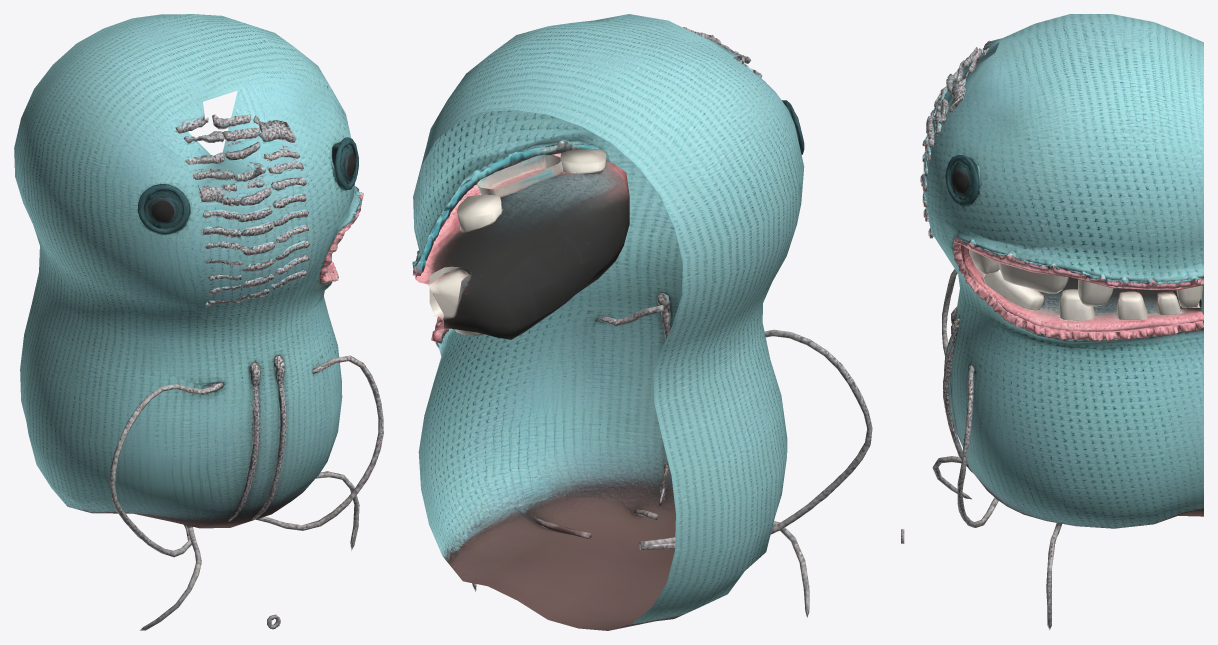
3 renders of one model, left to right at view 1: azimuth 30°, elevation 25°; view 2: azimuth 150°, elevation 25°; view 3: azimuth 270°, elevation 25°, orthographic. The views are drawn at different scales.
Visible parts, largest first — view 1: tripo_node_ca7a1819-09c9-4cde-95db-1880031a4634; view 2: tripo_node_ca7a1819-09c9-4cde-95db-1880031a4634; view 3: tripo_node_ca7a1819-09c9-4cde-95db-1880031a4634.
Part boxes in pixels (left/top/right/bottom): tripo_node_ca7a1819-09c9-4cde-95db-1880031a4634: left=14, top=14, right=383, bottom=630; tripo_node_ca7a1819-09c9-4cde-95db-1880031a4634: left=412, top=14, right=872, bottom=630; tripo_node_ca7a1819-09c9-4cde-95db-1880031a4634: left=901, top=14, right=1203, bottom=630.
Bounding box in the file's own units: 0.5918 × 0.998 × 0.5215.
1 material, 1 textured.
